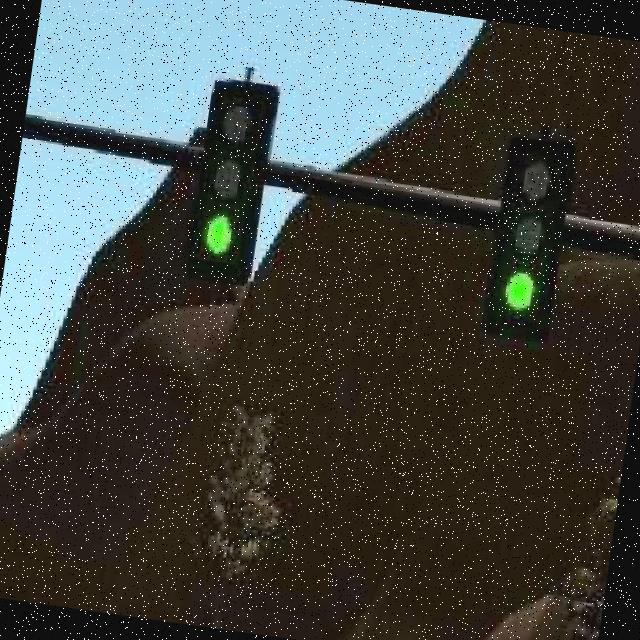Zielone swiatlo: (191, 78, 275, 284), (486, 145, 569, 340)
